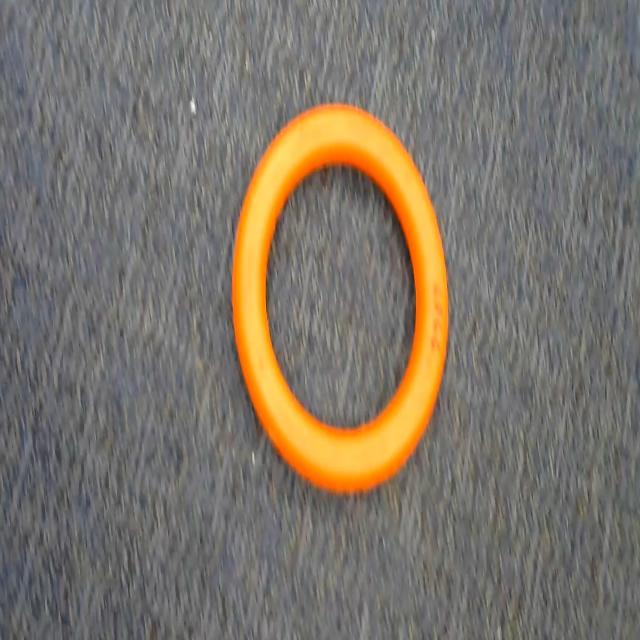note: (205, 88, 472, 532)
